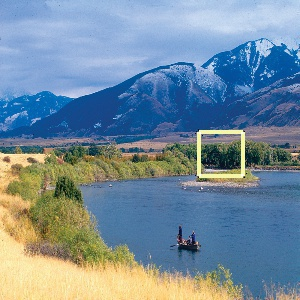square: (195, 127, 248, 180)
